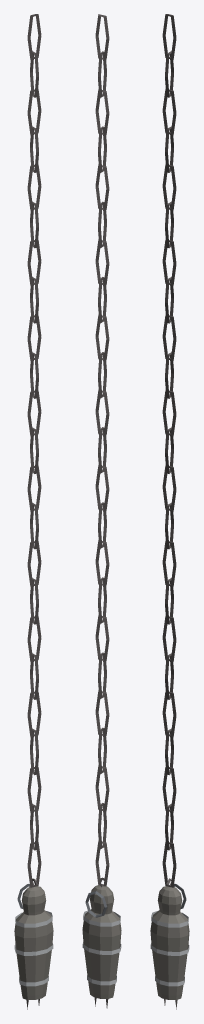
File: Circle6Piece_Maiden.obj
3 renders of one model, left to right at view 1: azimuth 30°, elevation 25°; view 2: azimuth 150°, elevation 25°; view 3: azimuth 330°, elevation 25°, orthographic.
Parts seen in each view (by area): view 1: Circle6Piece_Maiden; view 2: Circle6Piece_Maiden; view 3: Circle6Piece_Maiden.
Part boxes in pixels (x1,y1,x2,y2): Circle6Piece_Maiden: [14, 14, 53, 1009]; Circle6Piece_Maiden: [82, 14, 121, 1008]; Circle6Piece_Maiden: [150, 14, 189, 1009].
Size of the model in its own units: 1.15 by 29.75 by 0.8218.
Materials: 1 (1 with a texture image).
